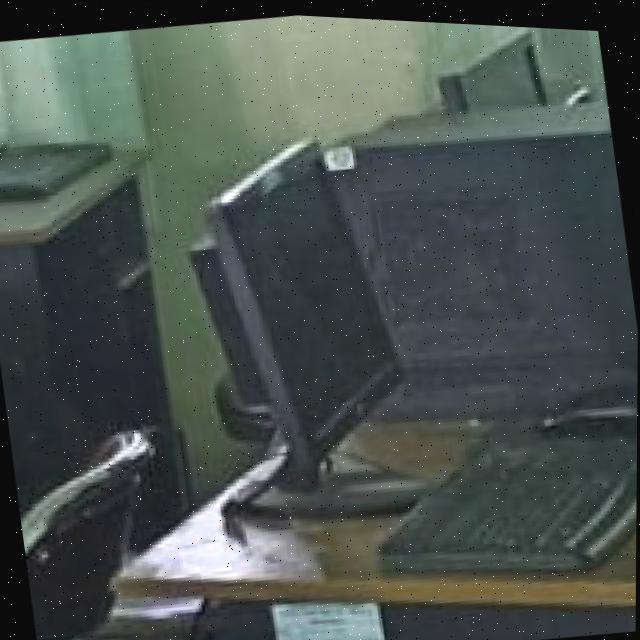offscreen: (205, 136, 395, 433)
